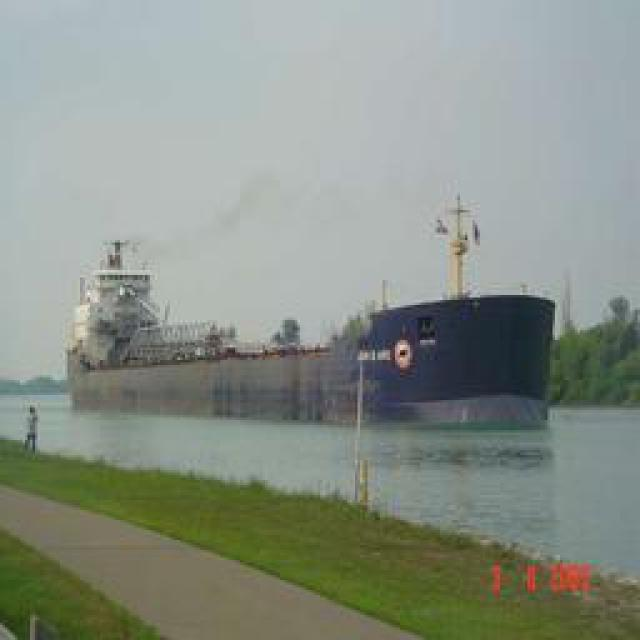Ship: (51, 190, 568, 433)
